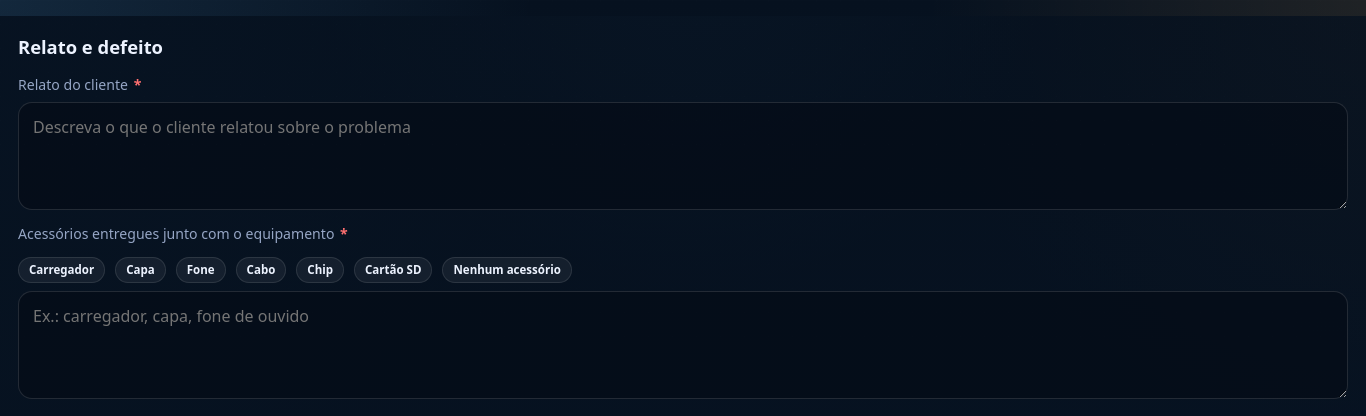
Scenario: StepDetails › clicar num chip de acessório adiciona o item ao texto
The image size is (1366, 416).
Click the button "Carregador".
click(62, 270)  # box [18,257,105,282]
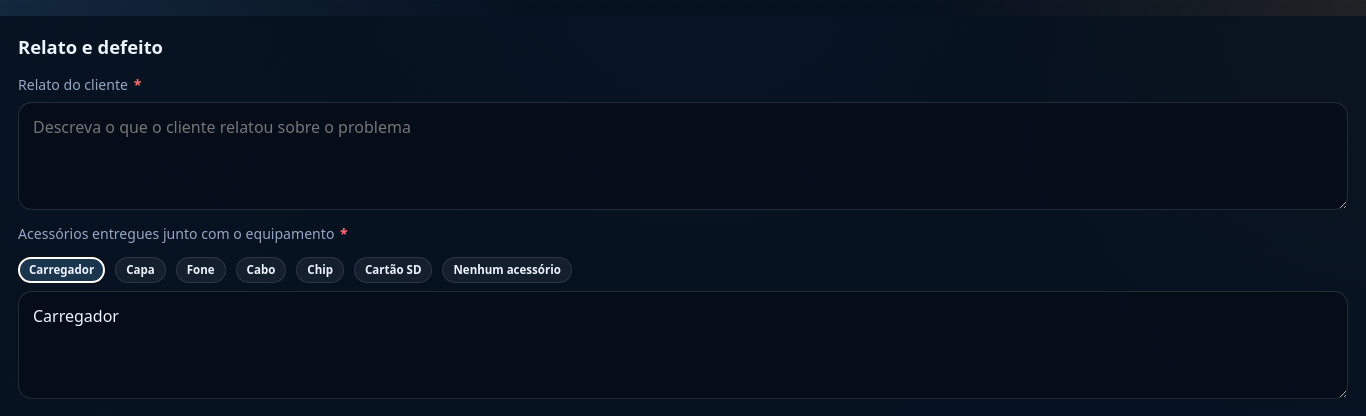
expect the text box labelled "Acessórios entregues junto com o equipamento *" holds "Carregador": met, box [18,290,1348,398]
Click the button "Capa".
click(140, 270)  # box [115,257,166,282]
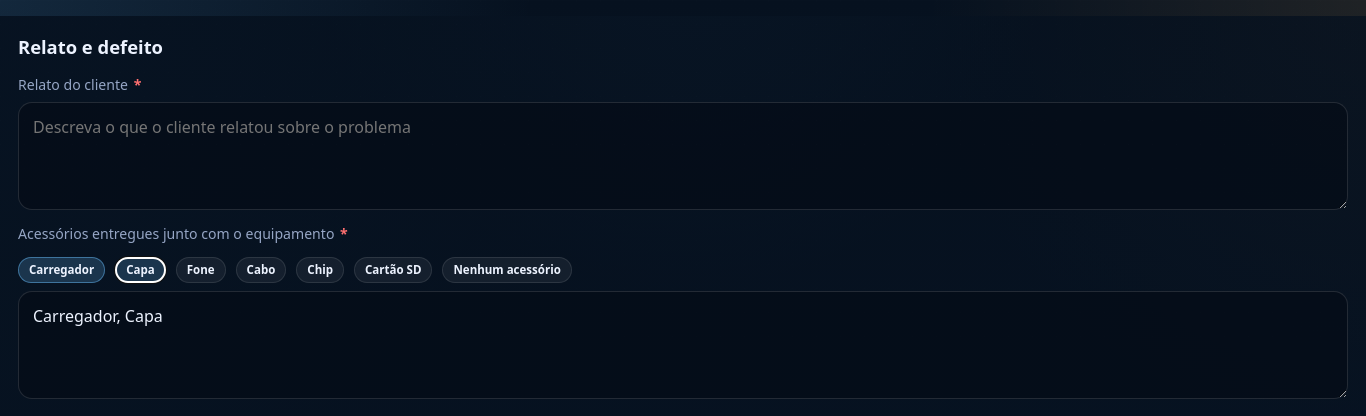
expect the text box labelled "Acessórios entregues junto com o equipamento *" holds "Carregador, Capa": met, box [18,290,1348,398]
